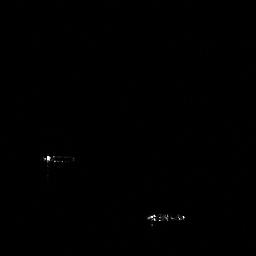ship: (145, 212, 187, 227), (42, 154, 75, 165)
